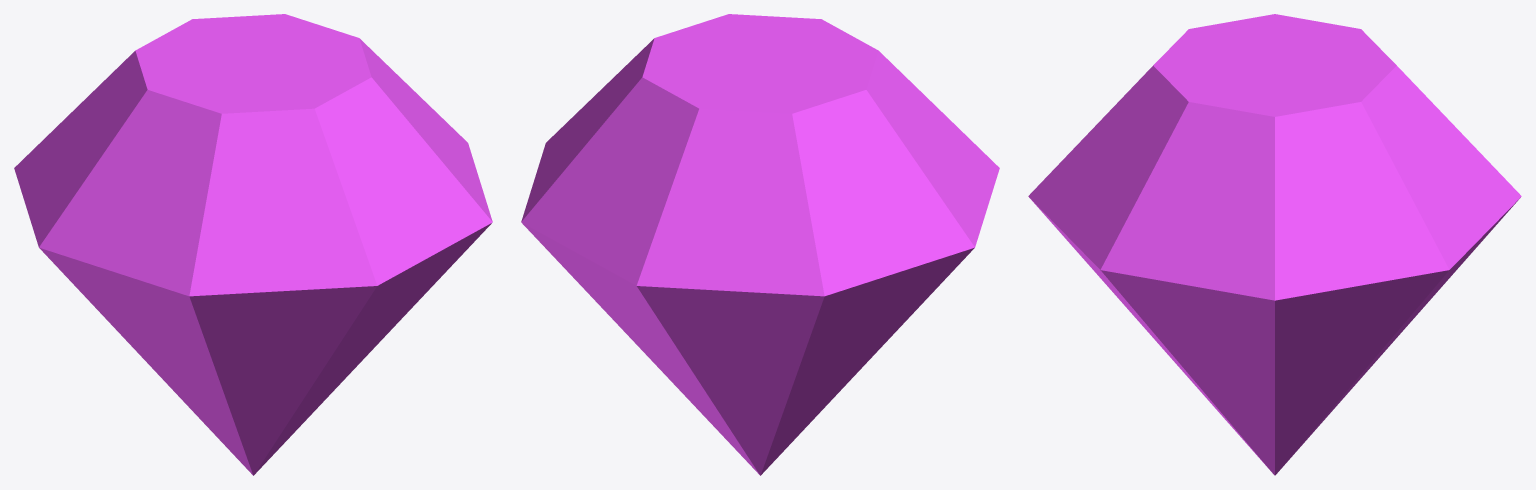
File: Gem.fbx
The picture shows the model from 3 angles, left to right: view 1: azimuth 30°, elevation 25°; view 2: azimuth 150°, elevation 25°; view 3: azimuth 270°, elevation 25°; orthographic projection.
Parts seen in each view (by area): view 1: Gem; view 2: Gem; view 3: Gem.
Boxes of the visible parts, <box> form: Gem: <box>14,14,492,475</box>; Gem: <box>521,14,999,475</box>; Gem: <box>1028,14,1521,475</box>.
Size of the model in its own units: 200 by 183 by 200.
